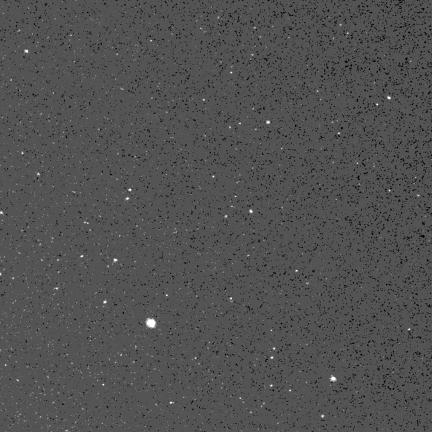blob: (146, 319, 157, 329), (266, 121, 270, 124), (388, 96, 391, 99)
